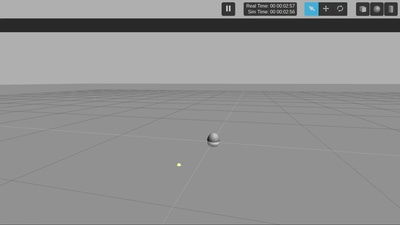mira_robot: (208, 133, 220, 146)
